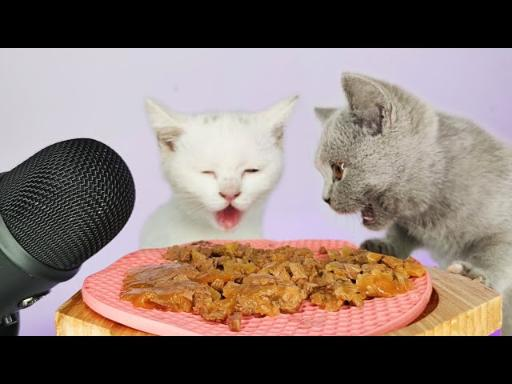cat_eating: (82, 73, 512, 335)
